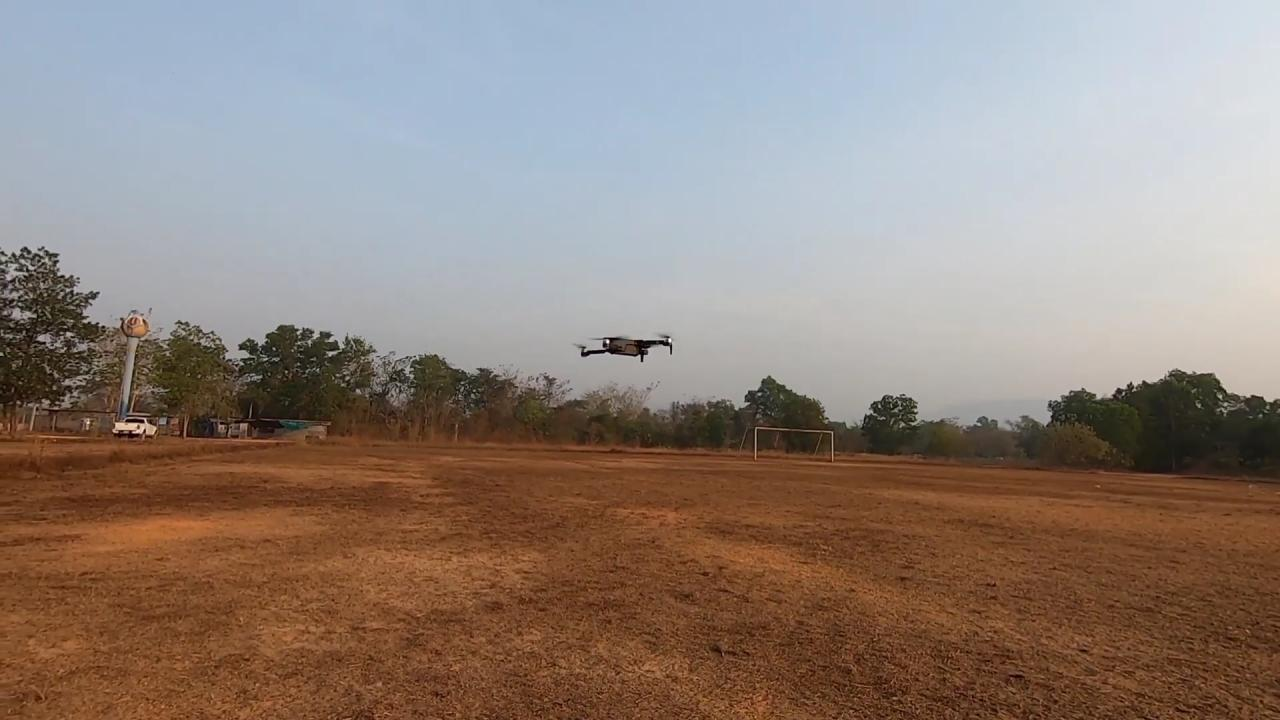Drone: (570, 324, 683, 367)
